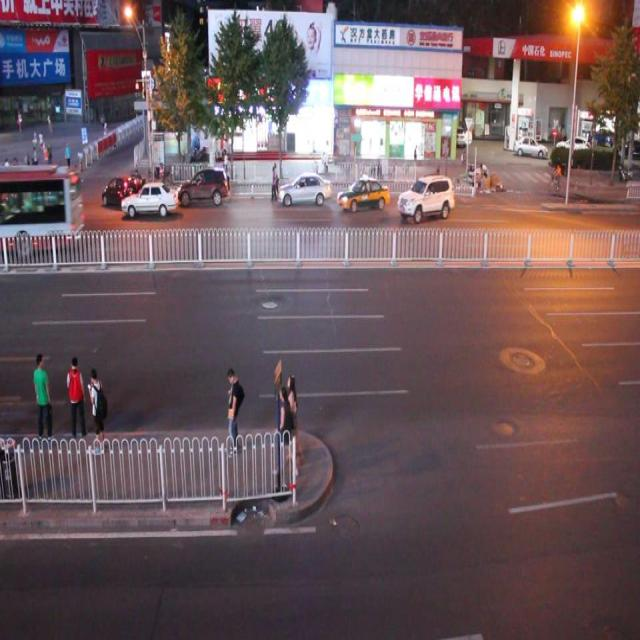car: (399, 174, 452, 219), (178, 166, 230, 203), (121, 181, 177, 215), (337, 174, 389, 210), (276, 172, 331, 204), (37, 180, 80, 210), (104, 171, 138, 205), (1, 169, 14, 210)
van: (0, 162, 84, 252)
